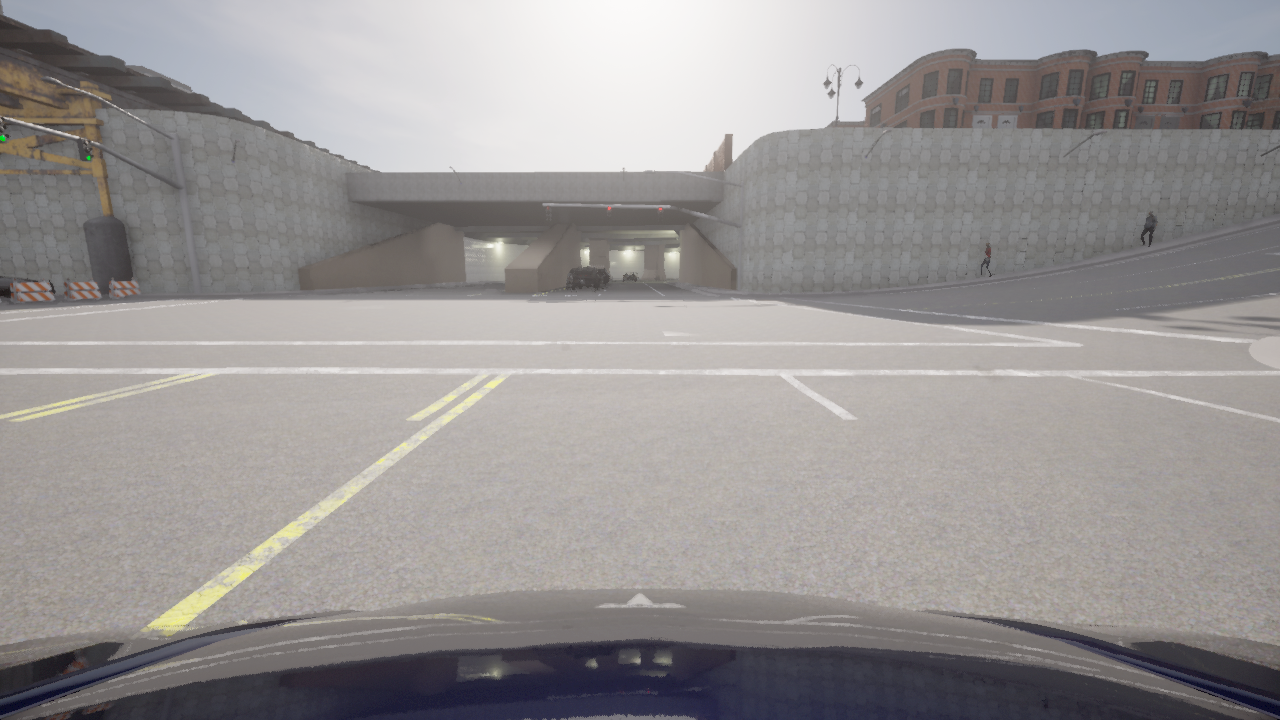cyclist: (0, 588, 1279, 719), (0, 276, 55, 298), (571, 268, 605, 291), (588, 265, 609, 283), (567, 269, 576, 288), (622, 271, 637, 282), (609, 272, 613, 281)
pedestrian: (1140, 210, 1158, 247), (977, 242, 992, 277)
